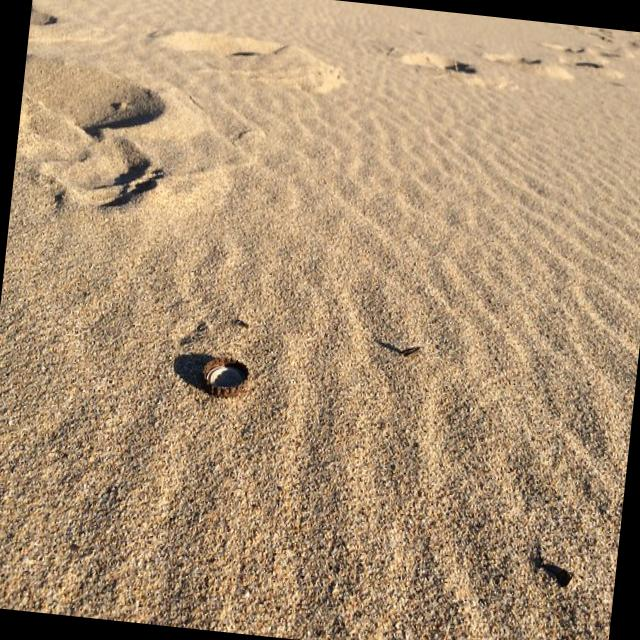Trash: (198, 346, 256, 402)
